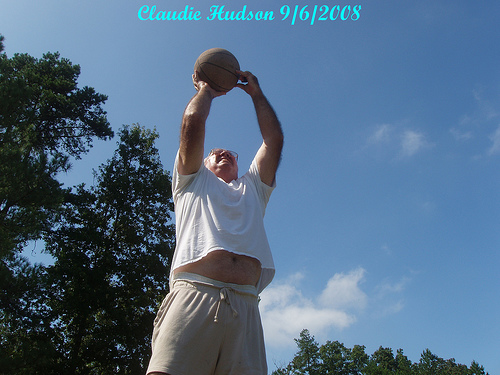basketball: (194, 47, 240, 96)
